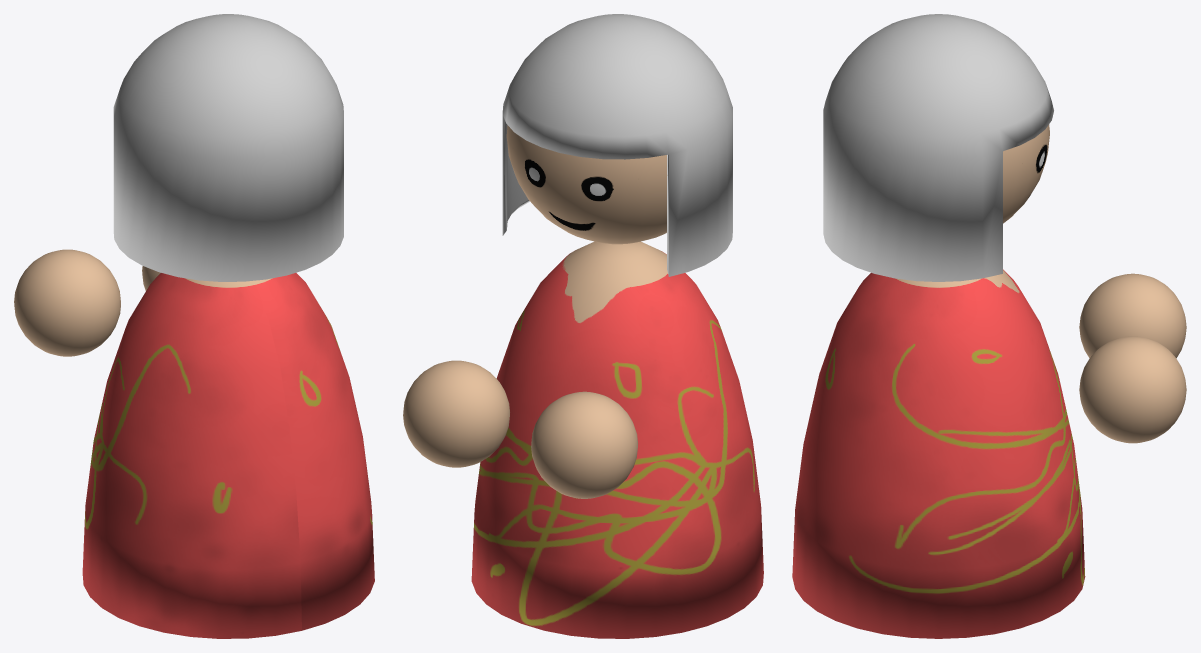
The model's file is Chara5.fbx.
3 renders of one model, left to right at view 1: azimuth 30°, elevation 25°; view 2: azimuth 150°, elevation 25°; view 3: azimuth 270°, elevation 25°, orthographic.
Visible parts, largest first — view 1: Sphere.002, Sphere.003, Sphere; view 2: Sphere.002, Sphere.003, Sphere, Sphere.001; view 3: Sphere.002, Sphere.003, Sphere, Sphere.001.
Part boxes in pixels (box(x1,y1,x2,y2)): Sphere.002: box(82, 273, 374, 638); Sphere.003: box(113, 14, 343, 281); Sphere: box(14, 249, 160, 356); Sphere.002: box(471, 241, 763, 638); Sphere.003: box(502, 14, 732, 276); Sphere: box(403, 360, 637, 498); Sphere.001: box(506, 125, 667, 244); Sphere.002: box(792, 269, 1085, 638); Sphere.003: box(823, 14, 1053, 281); Sphere: box(1079, 273, 1186, 443); Sphere.001: box(1003, 124, 1049, 223).
Size of the model in its own units: 178 by 395 by 239.
